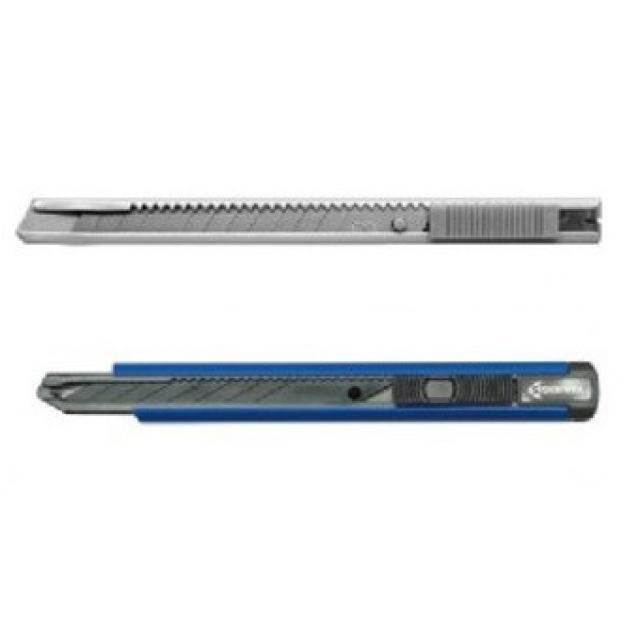cutter: (25, 347, 603, 420), (16, 184, 604, 254)
